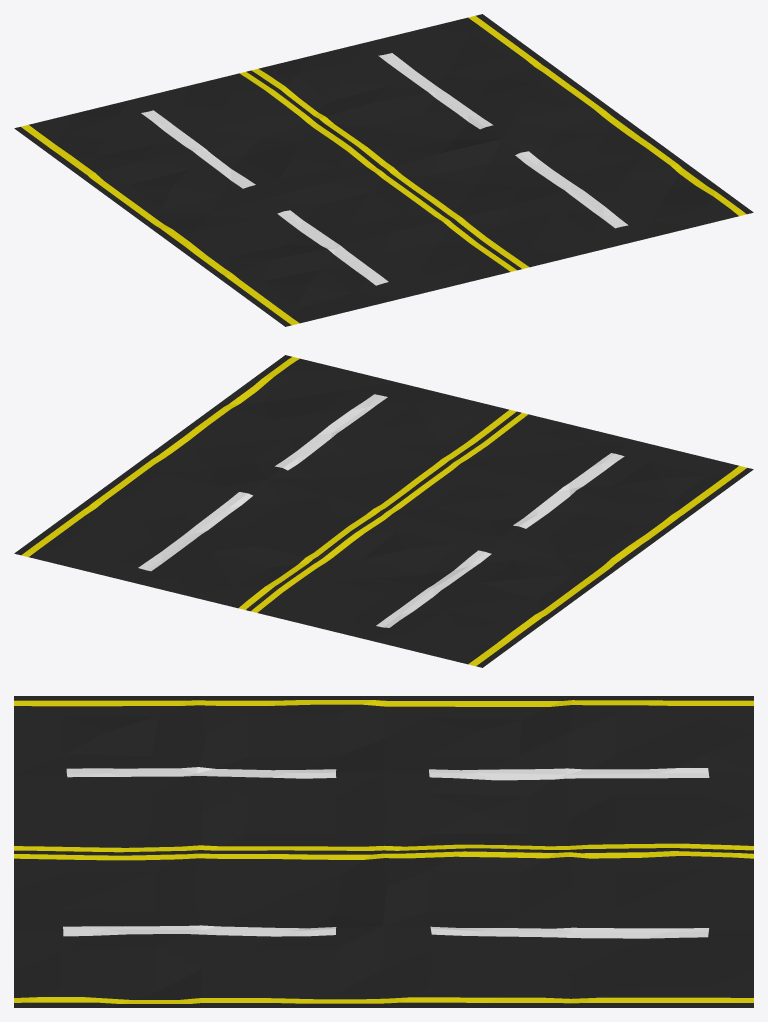
File: road.fbx
3 views of the same model, one above another, from view 1: azimuth 30°, elevation 25°; view 2: azimuth 150°, elevation 25°; view 3: azimuth 270°, elevation 25° (orthographic). The views are drawn at different scales.
Parts seen in each view (by area): view 1: Plane; view 2: Plane; view 3: Plane.
Boxes of the visible parts, left/top/right/bottom form: Plane: left=14, top=14, right=753, bottom=326; Plane: left=14, top=355, right=753, bottom=667; Plane: left=14, top=696, right=753, bottom=1007.
Size of the model in its own units: 2386 by 32.21 by 2393.
